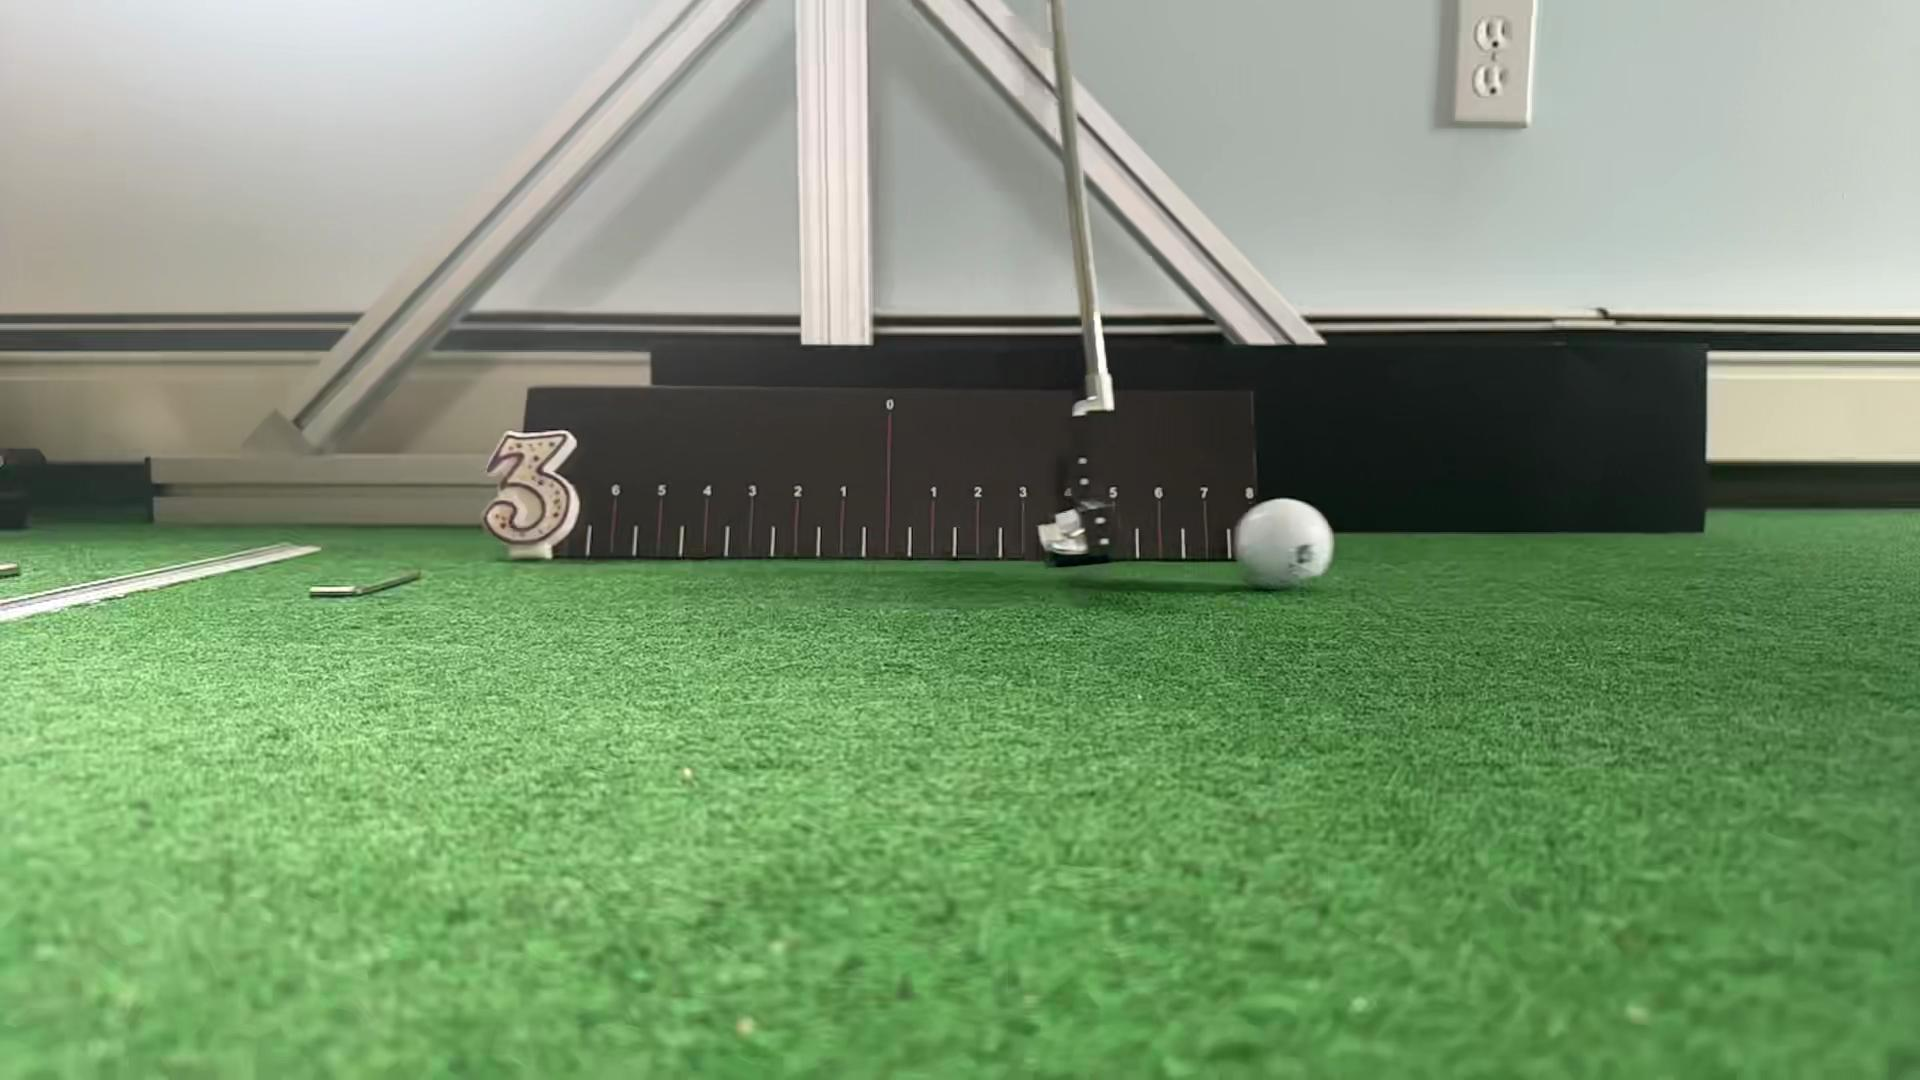golfball: (1237, 499, 1334, 591)
